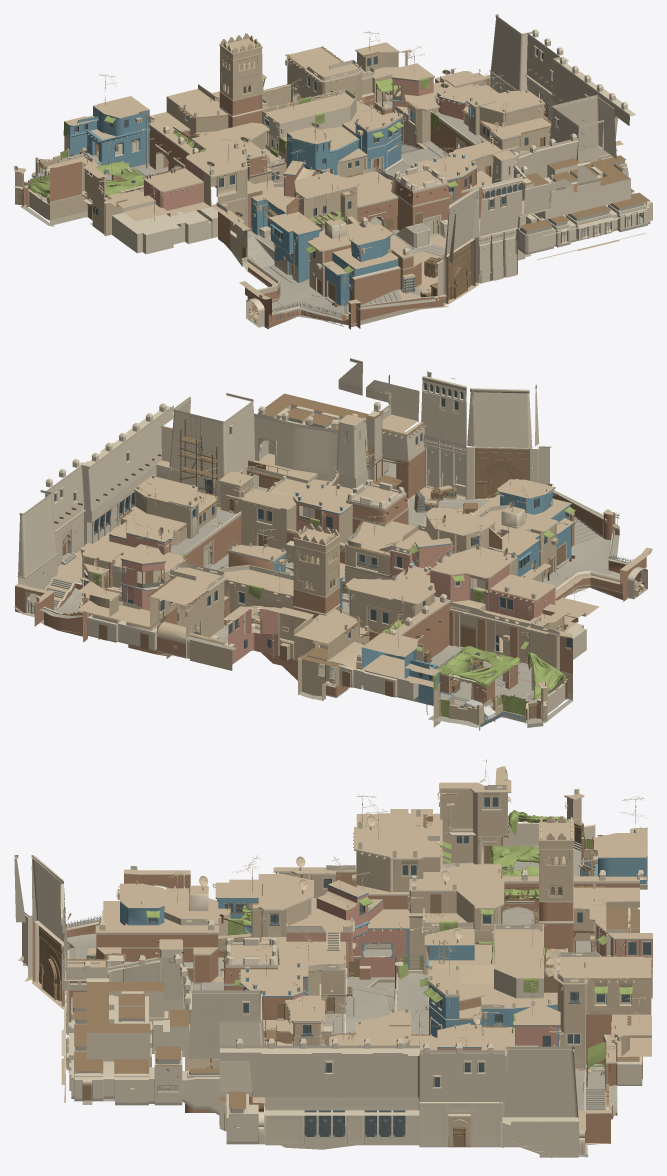
File: mirage-native.glb
3 views of the same model, one above another, from view 1: azimuth 30°, elevation 25°; view 2: azimuth 150°, elevation 25°; view 3: azimuth 270°, elevation 25° (orthographic). The views are drawn at different scales.
Visible parts, largest first — view 1: Mirage_native_A, Mirage_native_Mid, Mirage_native_T, Mirage_native_B; view 2: Mirage_native_A, Mirage_native_Mid, Mirage_native_T, Mirage_native_B; view 3: Mirage_native_Mid, Mirage_native_A, Mirage_native_T, Mirage_native_B.
Boxes of the visible parts, x1,y1,x2,y2 form: Mirage_native_A: [239, 96, 652, 329]; Mirage_native_Mid: [39, 33, 519, 276]; Mirage_native_T: [329, 14, 635, 177]; Mirage_native_B: [14, 74, 271, 235]; Mirage_native_A: [145, 358, 652, 601]; Mirage_native_Mid: [77, 464, 599, 713]; Mirage_native_T: [14, 393, 339, 654]; Mirage_native_B: [305, 565, 577, 730]; Mirage_native_Mid: [108, 794, 652, 1124]; Mirage_native_A: [14, 855, 356, 1147]; Mirage_native_T: [139, 958, 651, 1157]; Mirage_native_B: [401, 760, 647, 955].
Bounding box in the file's own units: 85.26 × 25.01 × 73.79.
